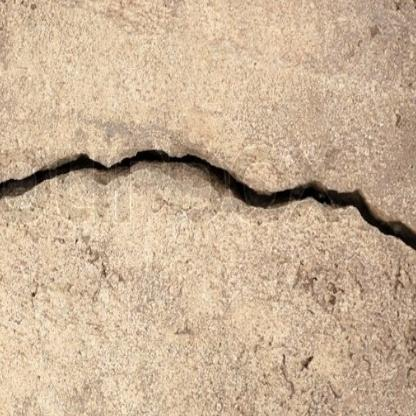Cracks: (0, 146, 416, 259)
